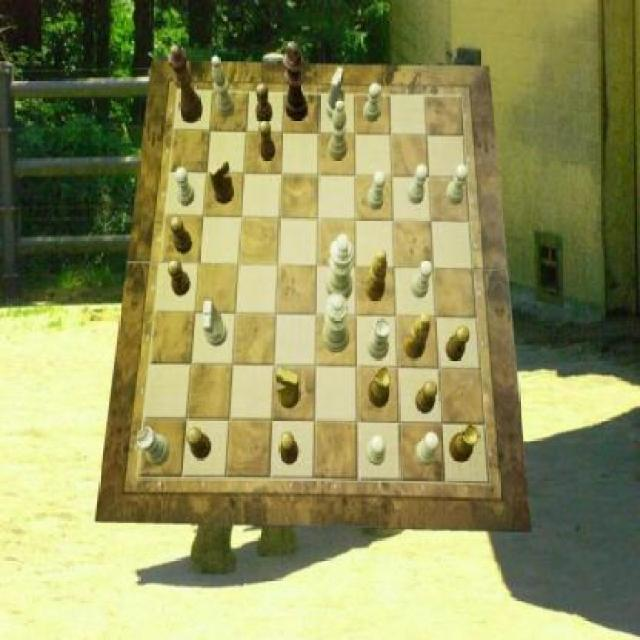bishop: (404, 314, 430, 360), (365, 249, 387, 302)
black-bishop: (283, 42, 308, 122)
black-king: (209, 157, 234, 205), (276, 368, 300, 409)
black-knight: (169, 217, 192, 255), (446, 326, 470, 361), (188, 428, 212, 462), (168, 259, 190, 296), (415, 379, 438, 413), (280, 430, 300, 464), (260, 120, 277, 160), (257, 84, 274, 124)
black-pawn: (168, 44, 203, 124)
black-queen: (449, 425, 479, 463), (368, 366, 390, 408)
black-rook: (210, 55, 234, 117), (328, 100, 348, 160)
white-bishop: (326, 234, 354, 303)
white-king: (203, 300, 227, 346), (326, 67, 346, 121)
white-knight: (446, 165, 469, 206), (411, 260, 433, 298), (416, 431, 440, 465), (408, 166, 428, 205), (363, 83, 381, 122), (176, 168, 194, 206), (368, 171, 385, 211), (366, 436, 386, 466)
white-pawn: (323, 294, 351, 354)
white-queen: (137, 426, 170, 466), (368, 317, 390, 359)
